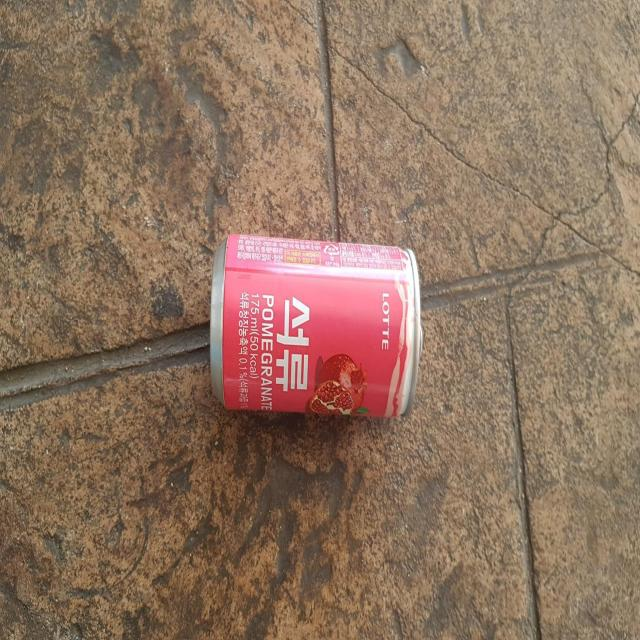can: (210, 233, 423, 417)
